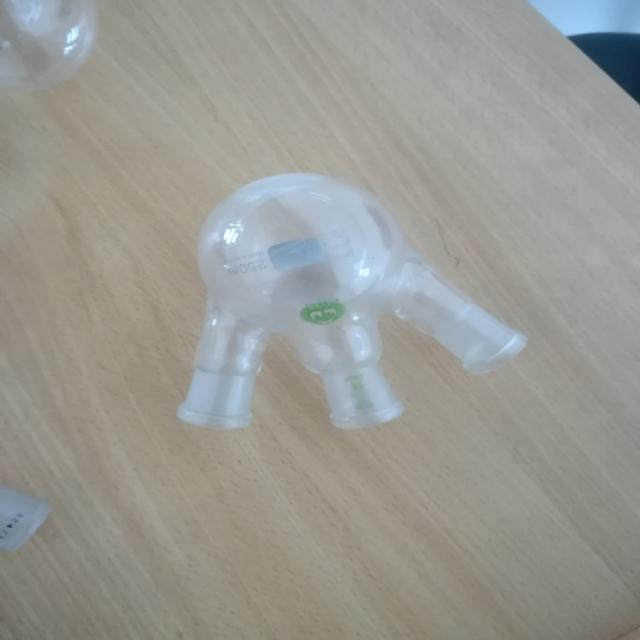Round_Bottom_Flask_Borosilicate_Glass_3_Neck: (136, 123, 581, 492)
